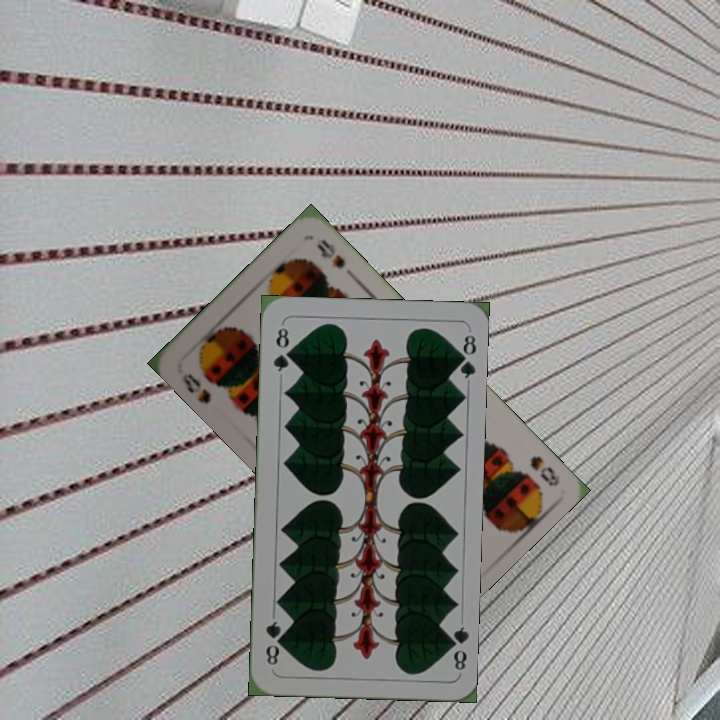G8: (443, 623, 470, 673), (269, 324, 293, 375)
S8: (526, 451, 563, 489), (178, 369, 214, 406)
